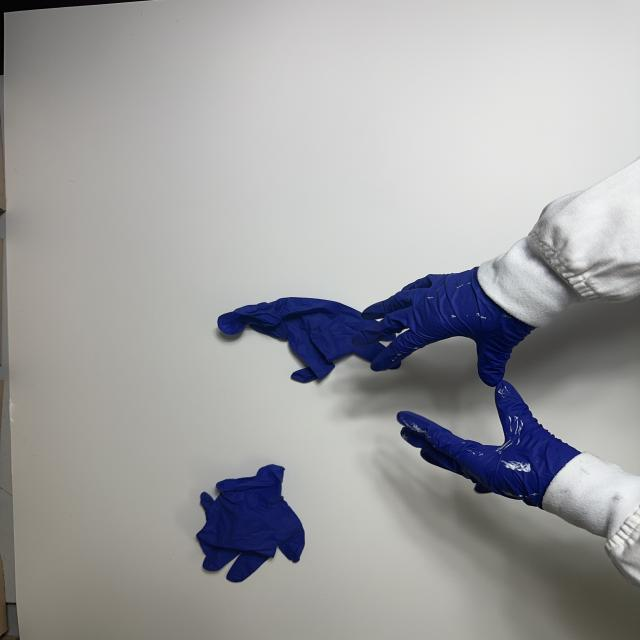gloves_contaminated: (398, 381, 580, 509), (353, 268, 533, 387)
